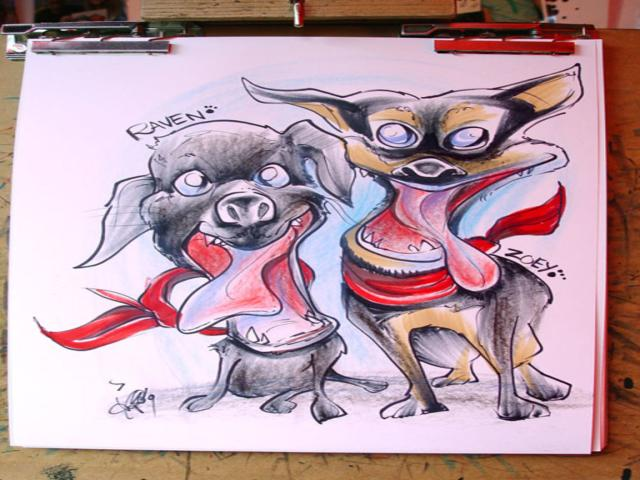Dog: (31, 118, 389, 426)
